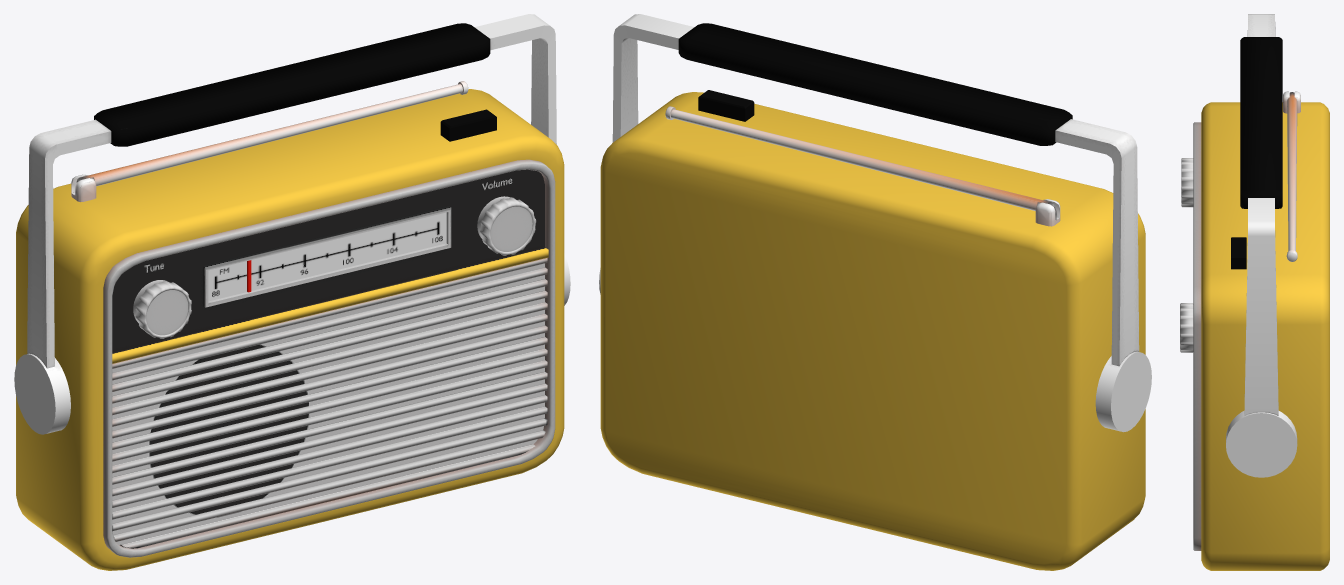
The model's file is Radio.fbx.
3 views of the same model, side by side, from view 1: azimuth 30°, elevation 25°; view 2: azimuth 150°, elevation 25°; view 3: azimuth 270°, elevation 25° (orthographic). The views are drawn at different scales.
Parts seen in each view (by area): view 1: LautsprecherteilFBX, KorpusFBX, GriffFBX, BlendeFBX, FrequenzskalaFBX, AntenneFBX, GriffachseFBX, VolumeFBX, TunerFBX, EinschalterFBX; view 2: KorpusFBX, GriffFBX, AntenneFBX, GriffachseFBX, EinschalterFBX; view 3: KorpusFBX, GriffFBX, GriffachseFBX, AntenneFBX, VolumeFBX, TunerFBX, EinschalterFBX.
Part boxes in pixels (x1=…): LautsprecherteilFBX: x1=112, y1=247, x2=548, y2=548; KorpusFBX: x1=16, y1=89, x2=564, y2=570; GriffFBX: x1=27, y1=14, x2=556, y2=368; BlendeFBX: x1=112, y1=169, x2=544, y2=352; FrequenzskalaFBX: x1=203, y1=206, x2=451, y2=307; AntenneFBX: x1=76, y1=81, x2=468, y2=186; GriffachseFBX: x1=14, y1=253, x2=570, y2=434; VolumeFBX: x1=477, y1=196, x2=536, y2=255; TunerFBX: x1=133, y1=280, x2=191, y2=338; EinschalterFBX: x1=440, y1=109, x2=496, y2=141; KorpusFBX: x1=600, y1=92, x2=1145, y2=570; GriffFBX: x1=612, y1=14, x2=1139, y2=366; AntenneFBX: x1=665, y1=106, x2=1054, y2=210; GriffachseFBX: x1=599, y1=268, x2=1151, y2=432; EinschalterFBX: x1=698, y1=90, x2=754, y2=121; KorpusFBX: x1=1193, y1=91, x2=1329, y2=570; GriffFBX: x1=1240, y1=14, x2=1282, y2=415; GriffachseFBX: x1=1226, y1=410, x2=1297, y2=477; AntenneFBX: x1=1286, y1=92, x2=1297, y2=261; VolumeFBX: x1=1180, y1=303, x2=1193, y2=352; TunerFBX: x1=1181, y1=158, x2=1193, y2=207; EinschalterFBX: x1=1231, y1=237, x2=1246, y2=269.
Bounding box in the file's own units: 32.82 × 25.85 × 9.54.
